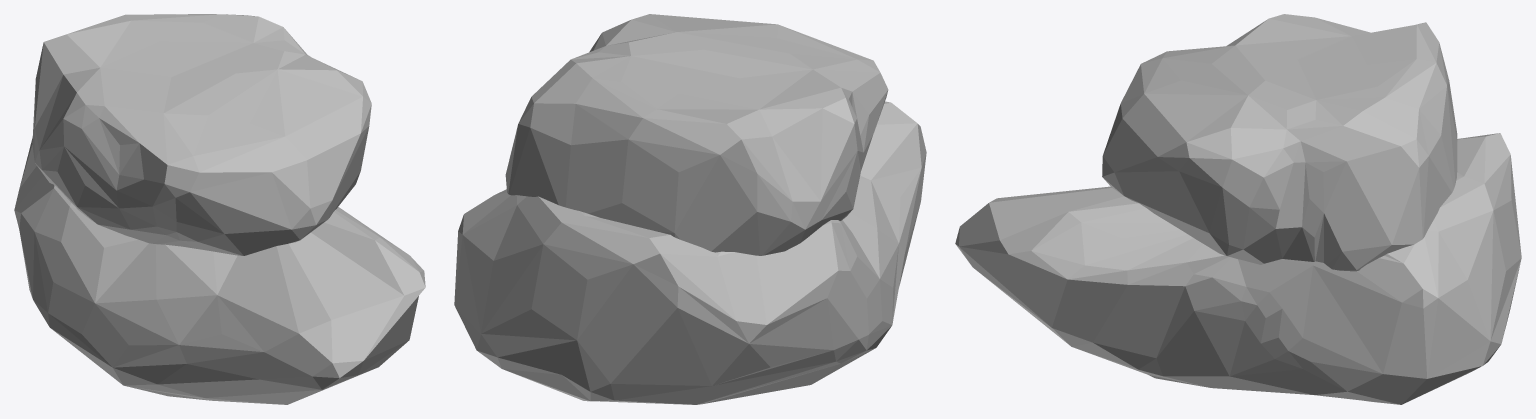
Rendered from Rock_042.glb.
3 renders of one model, left to right at view 1: azimuth 30°, elevation 25°; view 2: azimuth 150°, elevation 25°; view 3: azimuth 270°, elevation 25°, orthographic. The views are drawn at different scales.
Parts seen in each view (by area): view 1: Rock_042; view 2: Rock_042; view 3: Rock_042.
Part boxes in pixels (left/top/right/bottom): Rock_042: left=14, top=14, right=425, bottom=404; Rock_042: left=454, top=14, right=926, bottom=404; Rock_042: left=955, top=14, right=1521, bottom=404.
Size of the model in its own units: 2.89 by 2.45 by 4.22.
1 material, 1 textured.
